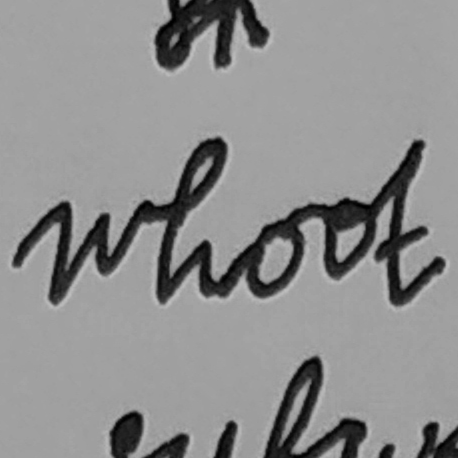h: (152, 132, 231, 312)
o: (235, 210, 313, 304), (317, 191, 381, 282)
t: (369, 135, 450, 310)
w: (37, 190, 155, 311)
